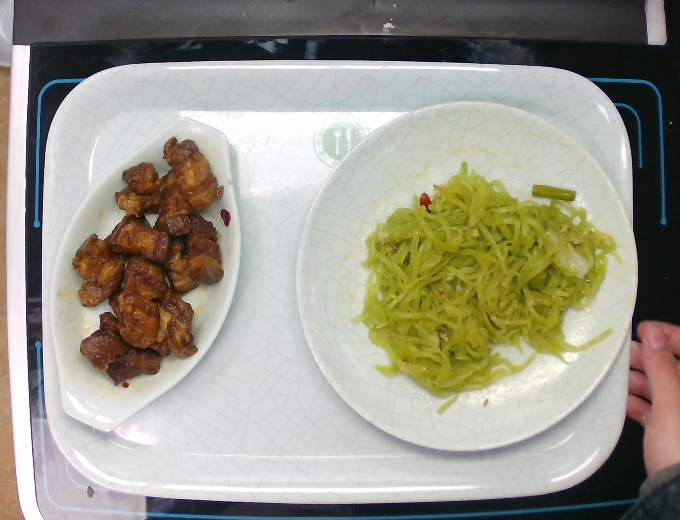JYsf-Da_Yuan_Pan: (288, 90, 644, 467)
JYsf-Yu_Pan: (44, 110, 253, 436)
